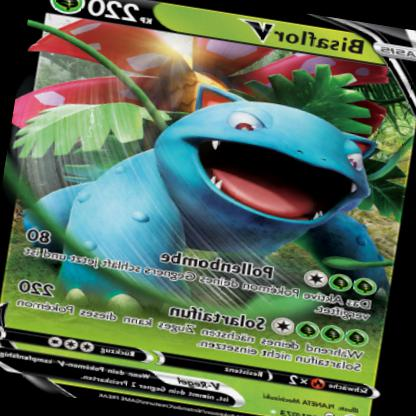Venusaur: (1, 14, 397, 351)
